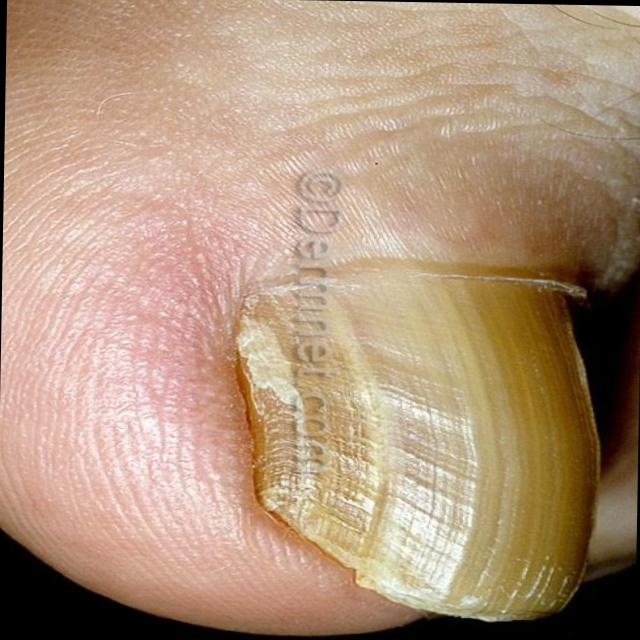Nail: (231, 271, 600, 618)
